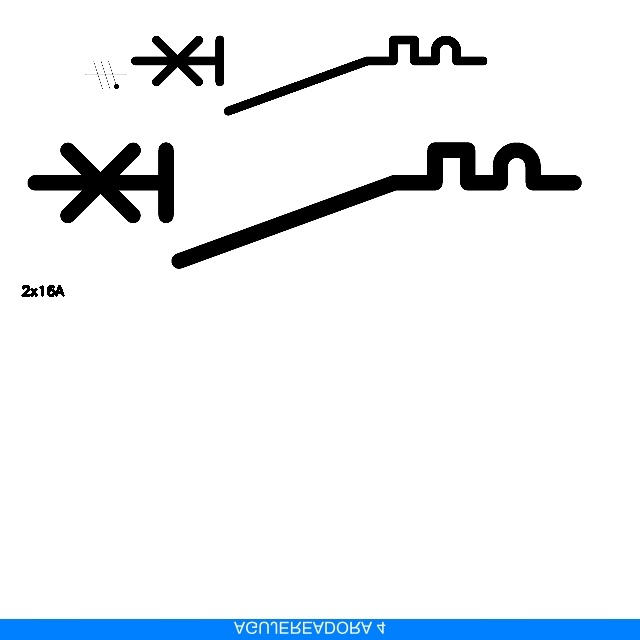interruptor_termomagnetico: (21, 136, 588, 275), (126, 31, 492, 120)
